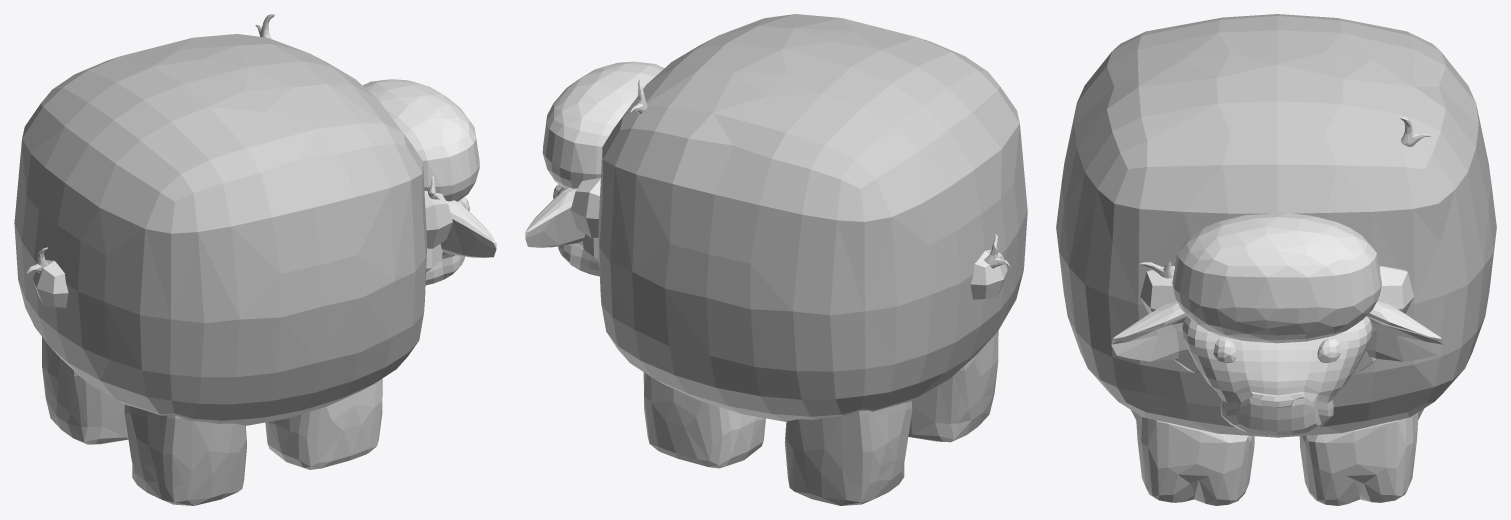
File: Sheep_model.fbx
The picture shows the model from 3 angles, left to right: view 1: azimuth 30°, elevation 25°; view 2: azimuth 150°, elevation 25°; view 3: azimuth 270°, elevation 25°; orthographic projection. The views are drawn at different scales.
Parts seen in each view (by area): view 1: Body, Back Hoover, Bang, Front Hoover, Ears, Tail, Collar, Head; view 2: Body, Back Hoover, Bang, Front Hoover, Ears, Collar, Tail, Head; view 3: Body, Bang, Front Hoover, Head, Ears, Collar, Eyes, Collar.001.
Boxes of the visible parts, x1,y1,x2,y2 form: Body: (14,34,426,425); Back Hoover: (42,337,246,505); Bang: (363,79,479,201); Front Hoover: (265,378,382,469); Ears: (440,200,496,257); Tail: (33,259,68,307); Collar: (424,191,452,248); Head: (425,199,466,285); Body: (598,14,1027,421); Back Hoover: (784,330,998,505); Bang: (542,61,664,188); Front Hoover: (643,372,765,468); Ears: (525,187,585,247); Collar: (570,177,600,238); Tail: (970,249,1007,299); Head: (556,187,599,276); Body: (1056,14,1496,437); Bang: (1172,213,1381,343); Front Hoover: (1136,412,1418,505); Head: (1182,316,1372,435); Ears: (1111,301,1443,361); Collar: (1140,266,1414,313); Eyes: (1213,338,1340,363); Collar.001: (1174,350,1377,373).
Size of the model in its own units: 224 by 183 by 179.
2 materials, 2 textured.
